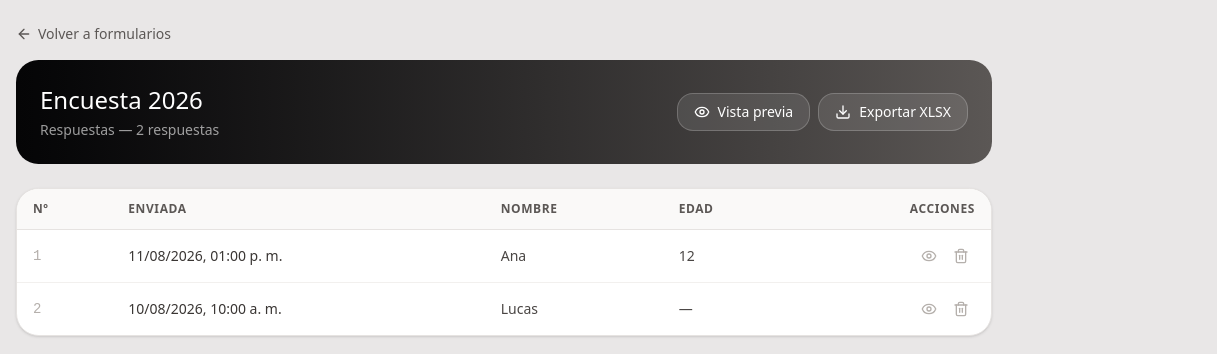
it: RespuestasClient › exports the XLSX through the server action and downloads a Blob
Click the button "Exportar XLSX". click: (893, 112)
box: [818,93,968,131]
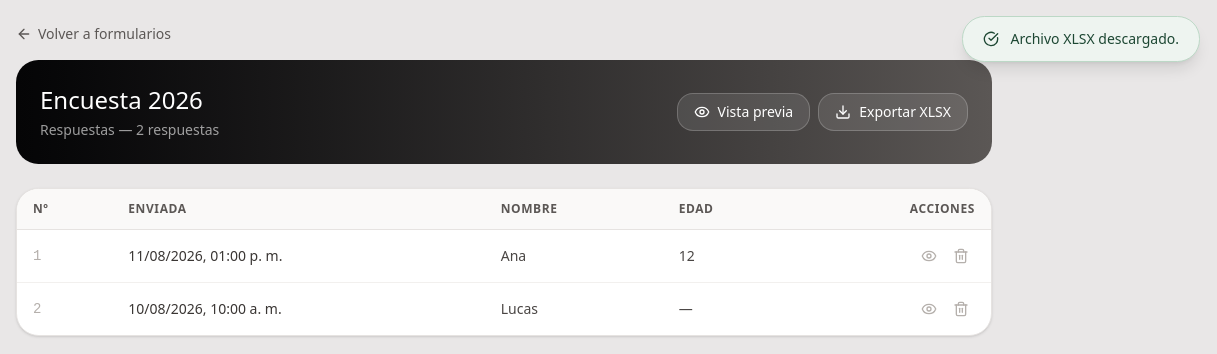
Expected: the text "Archivo XLSX descargado." is shown, [962,16,1200,62]
